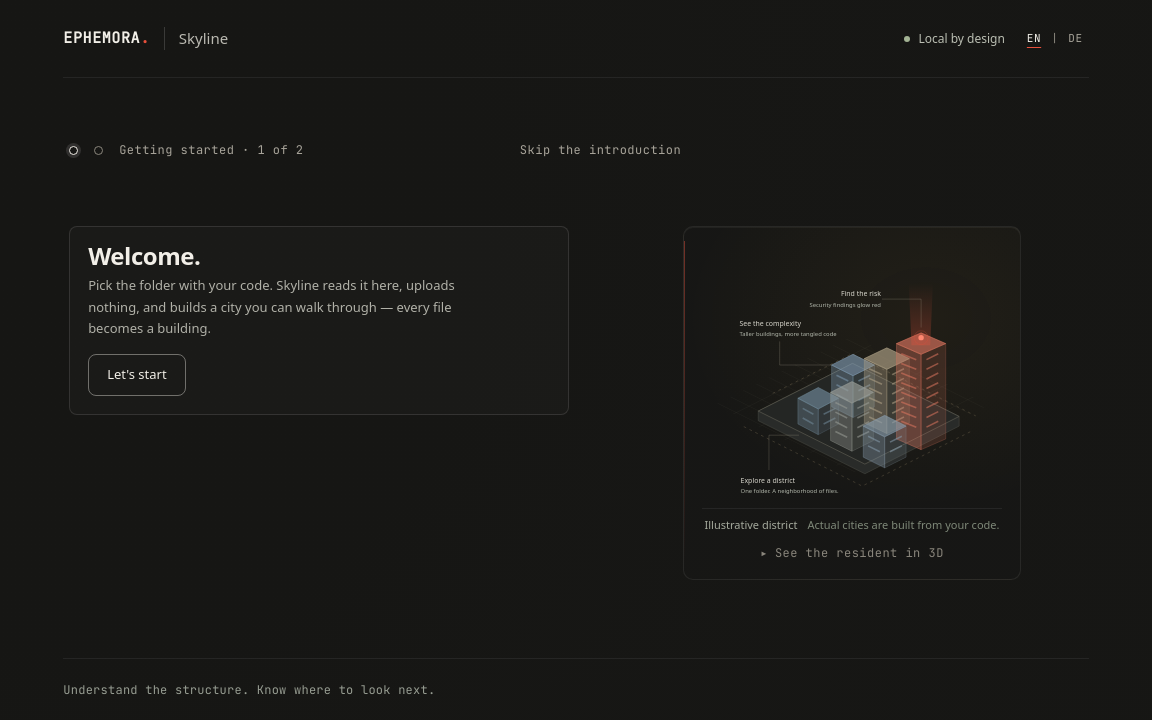
the introduction navigates: back, next, skip (§03.07) › Back returns to the greeting
Click the button with class "landing-welcome-begin".
click(137, 375)  # box [88, 354, 186, 396]
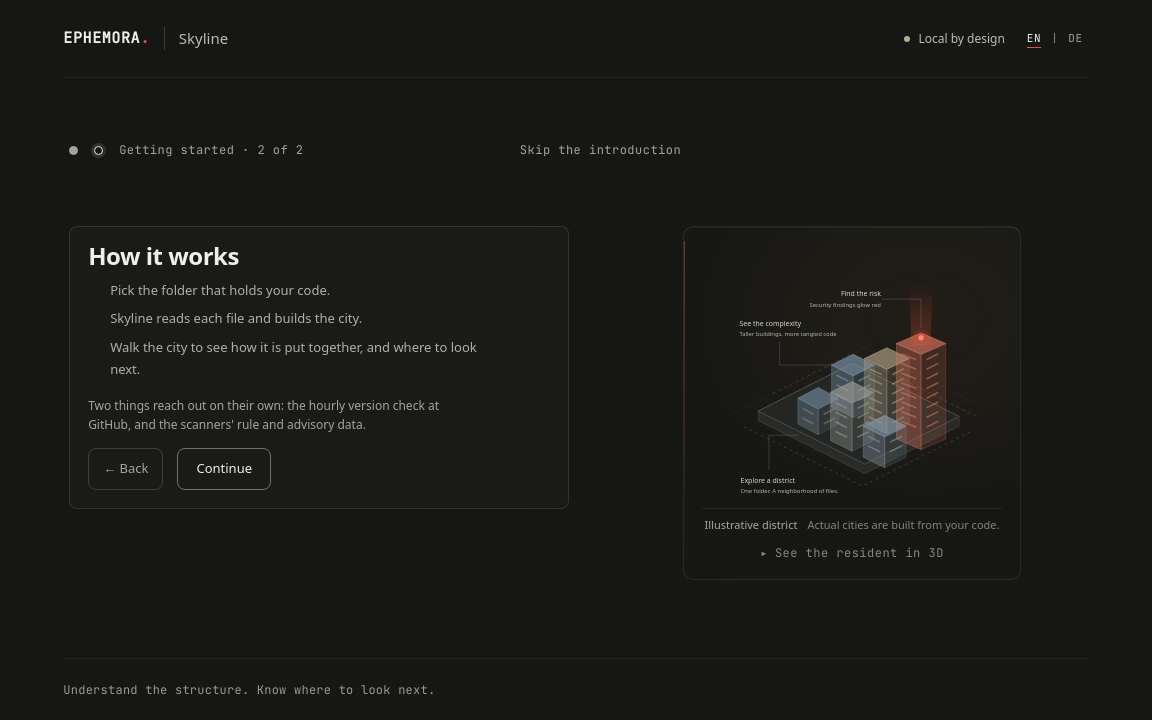
Click the button "← Back".
click(126, 469)  # box [88, 448, 163, 490]
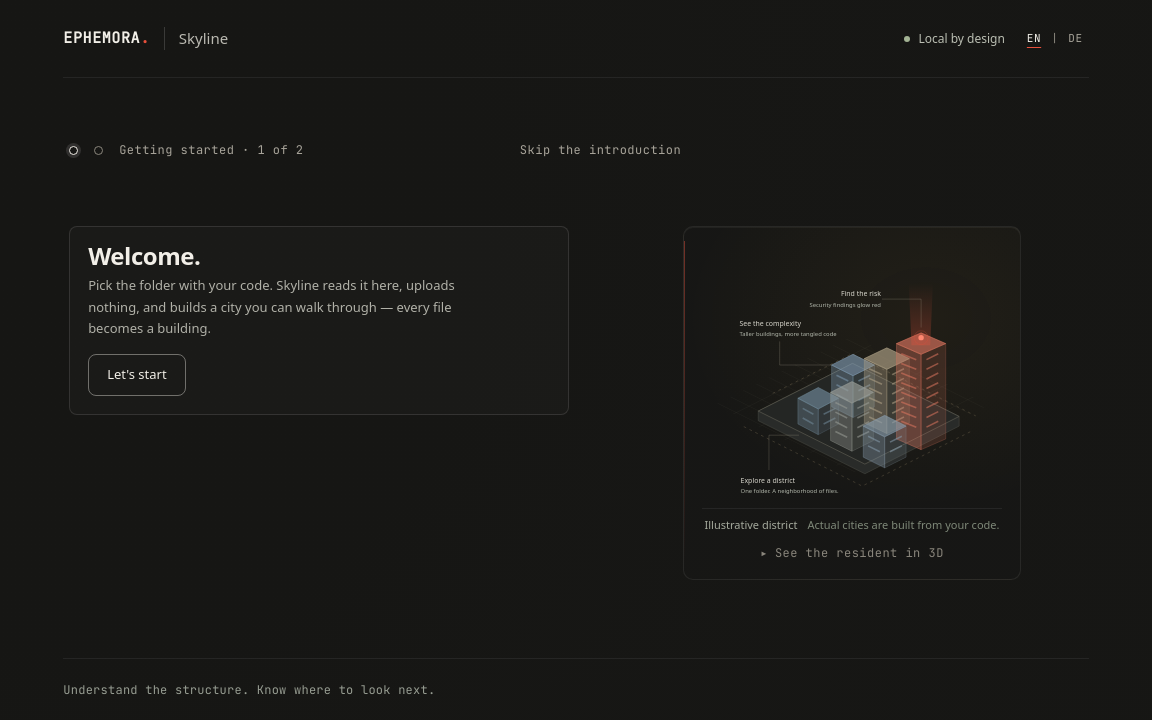
Now the element with class "landing-guide" is gone
Now the element with class "landing-welcome" is shown, box [69, 226, 569, 415]
